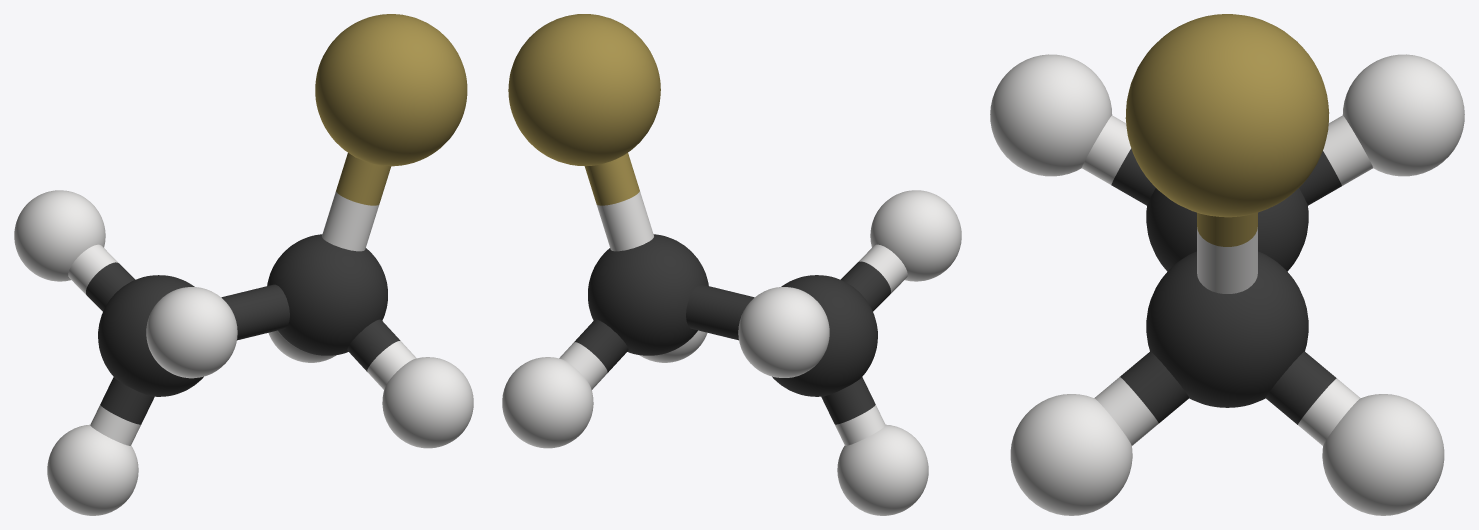
Rendered from fayingwu1.gltf.
The picture shows the model from 3 angles, left to right: view 1: azimuth 30°, elevation 25°; view 2: azimuth 150°, elevation 25°; view 3: azimuth 270°, elevation 25°; orthographic projection. The views are drawn at different scales.
Parts seen in each view (by area): view 1: 对象004, Cylinder007; view 2: 对象004, Cylinder007; view 3: 对象004, Cylinder007.
Part boxes in pixels (<box>): 对象004: <box>14,190,473,515</box>; Cylinder007: <box>315,14,467,205</box>; 对象004: <box>502,190,961,515</box>; Cylinder007: <box>508,14,660,205</box>; 对象004: <box>990,54,1464,515</box>; Cylinder007: <box>1125,14,1329,246</box>.
Size of the model in its own units: 30.59 by 30.24 by 23.32.
3 materials, 3 textured.
